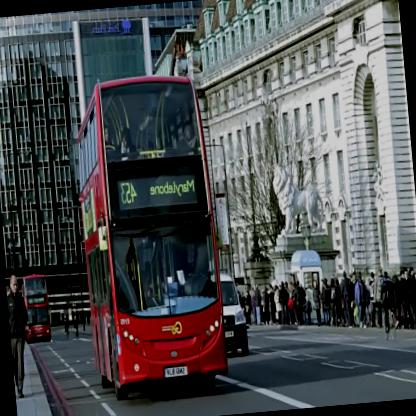bus: (72, 72, 230, 401), (21, 274, 52, 342)
car: (214, 272, 249, 358)
